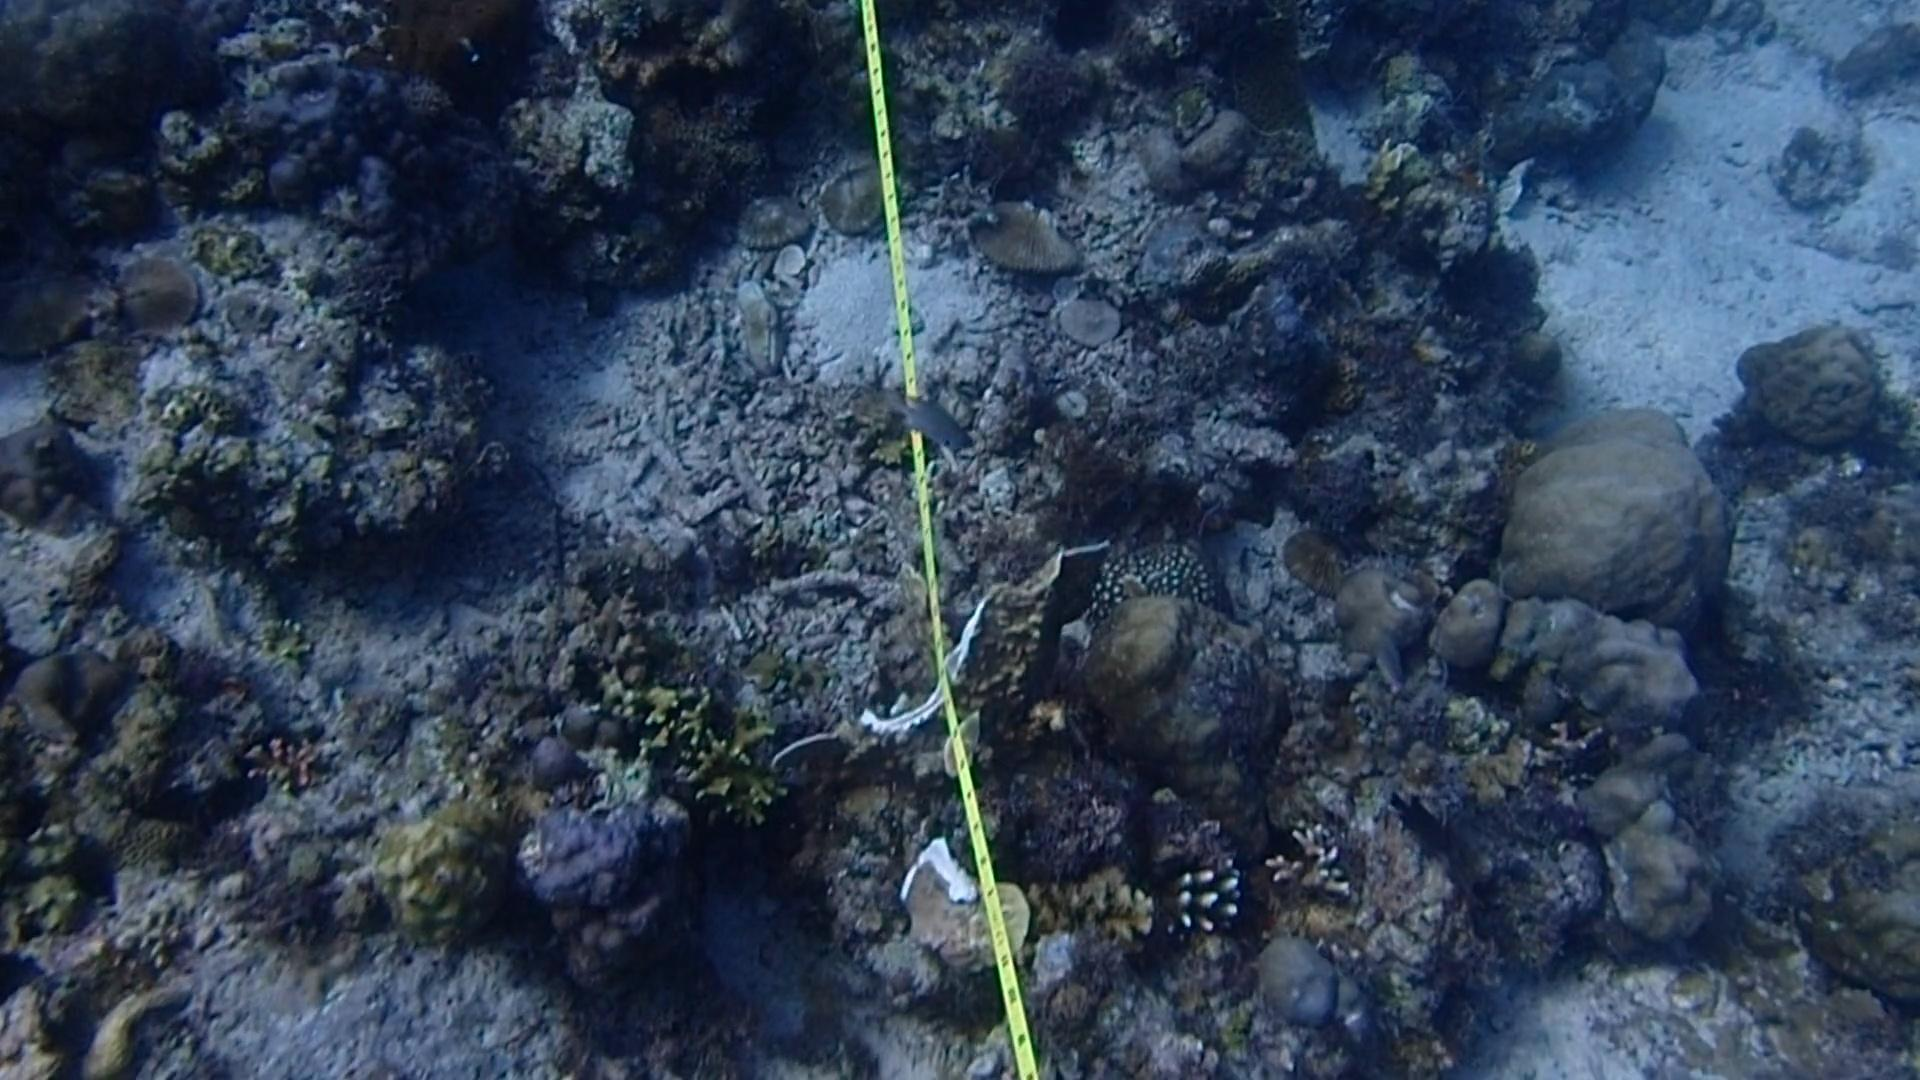Light Fish: (890, 388, 985, 465)
